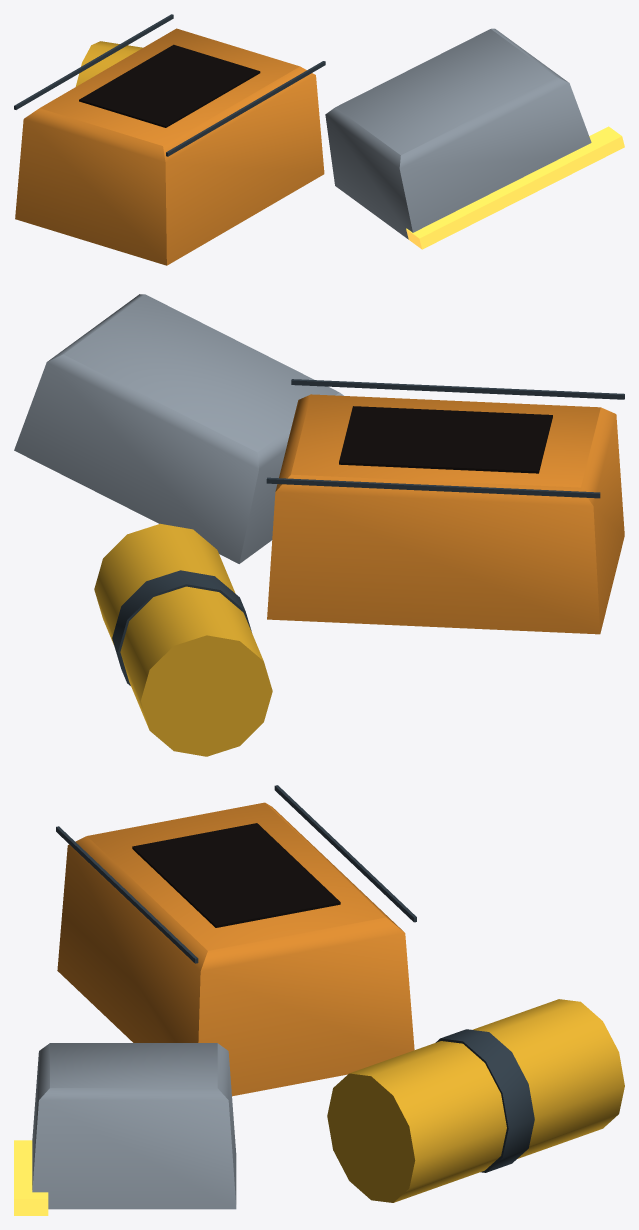
The model's file is debris_cargo.glb.
The picture shows the model from 3 angles, top to bottom: view 1: azimuth 30°, elevation 25°; view 2: azimuth 150°, elevation 25°; view 3: azimuth 270°, elevation 25°; orthographic projection. The views are drawn at different scales.
Visible parts, largest first — view 1: crate_a_m, crate_b_m, scorch, hot, strap, canister_m; view 2: crate_a_m, crate_b_m, canister_m, scorch, strap, canister_band; view 3: crate_a_m, canister_m, crate_b_m, scorch, canister_band, strap, hot.
Part boxes in pixels (<box>): crate_a_m: <box>15,28,324,265</box>; crate_b_m: <box>325,28,591,239</box>; scorch: <box>79,44,260,127</box>; hot: <box>406,126,624,249</box>; strap: <box>14,14,325,156</box>; canister_m: <box>75,41,142,86</box>; crate_a_m: <box>267,394,624,634</box>; crate_b_m: <box>14,294,343,563</box>; canister_m: <box>94,523,272,756</box>; scorch: <box>339,406,552,473</box>; strap: <box>266,379,624,498</box>; canister_band: <box>112,570,251,685</box>; crate_a_m: <box>57,802,414,1096</box>; canister_m: <box>327,999,624,1202</box>; crate_b_m: <box>32,1043,236,1209</box>; scorch: <box>132,823,340,927</box>; canister_band: <box>435,1029,534,1172</box>; strap: <box>56,785,416,963</box>; hot: <box>14,1140,48,1215</box>.
Size of the model in its own units: 4.37 by 1.42 by 3.57.
